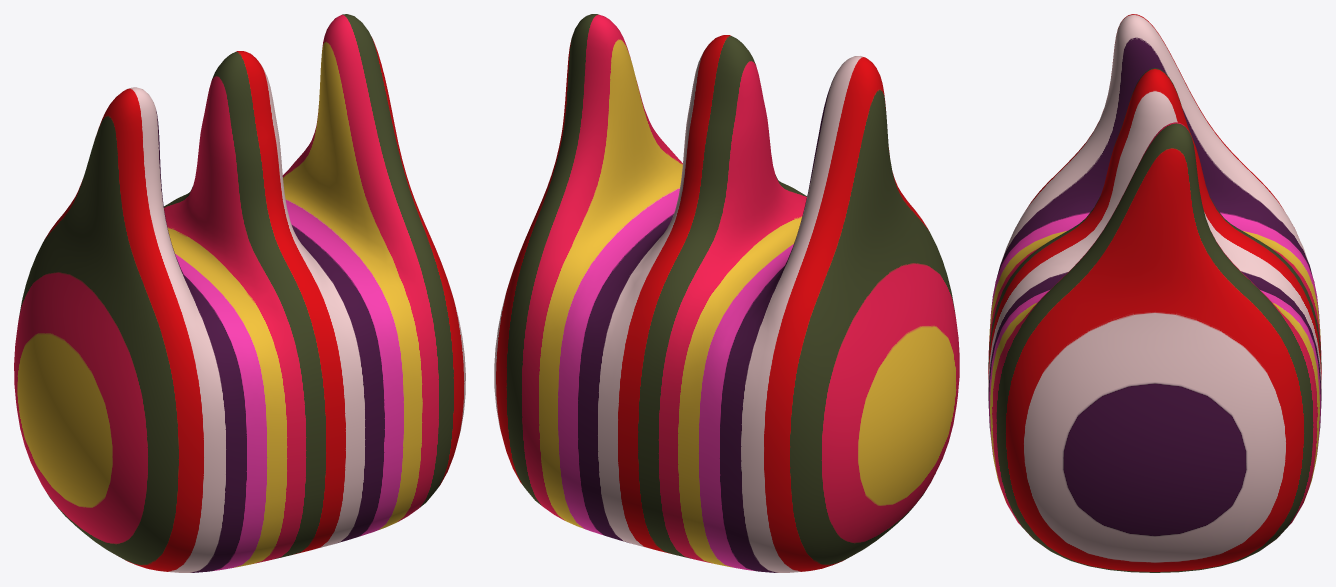
File: B-1_Onstick.fbx
3 renders of one model, left to right at view 1: azimuth 30°, elevation 25°; view 2: azimuth 150°, elevation 25°; view 3: azimuth 270°, elevation 25°, orthographic. The views are drawn at different scales.
Parts seen in each view (by area): view 1: B-1; view 2: B-1; view 3: B-1.
Boxes of the visible parts, x1=… form: B-1: x1=14, y1=14, x2=465, y2=572; B-1: x1=494, y1=14, x2=959, y2=572; B-1: x1=988, y1=14, x2=1321, y2=572.
Size of the model in its own units: 96.13 by 77.91 by 118.
